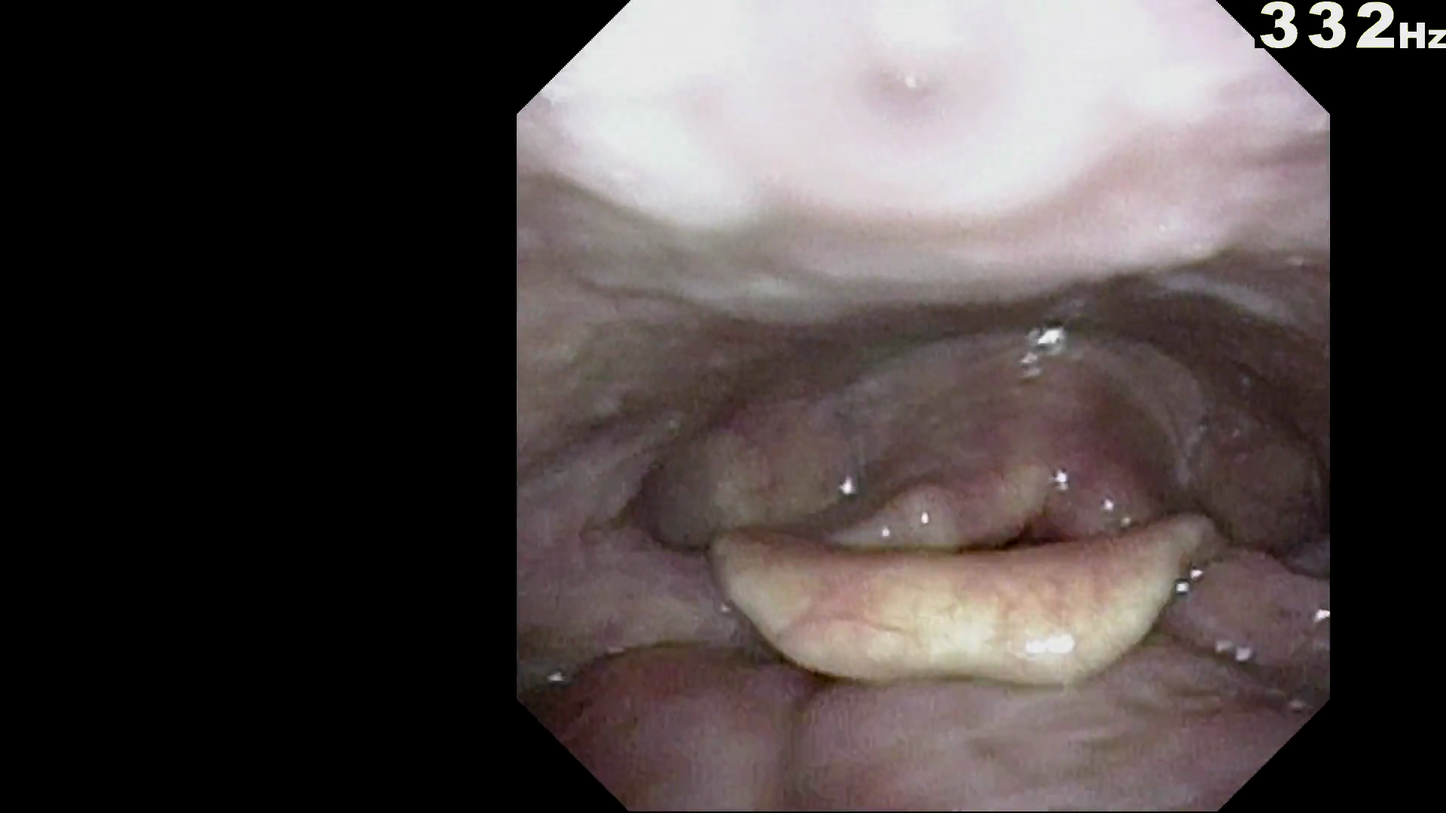epiglottis: (718, 530, 1260, 670)
trachea: (970, 484, 1099, 577)
